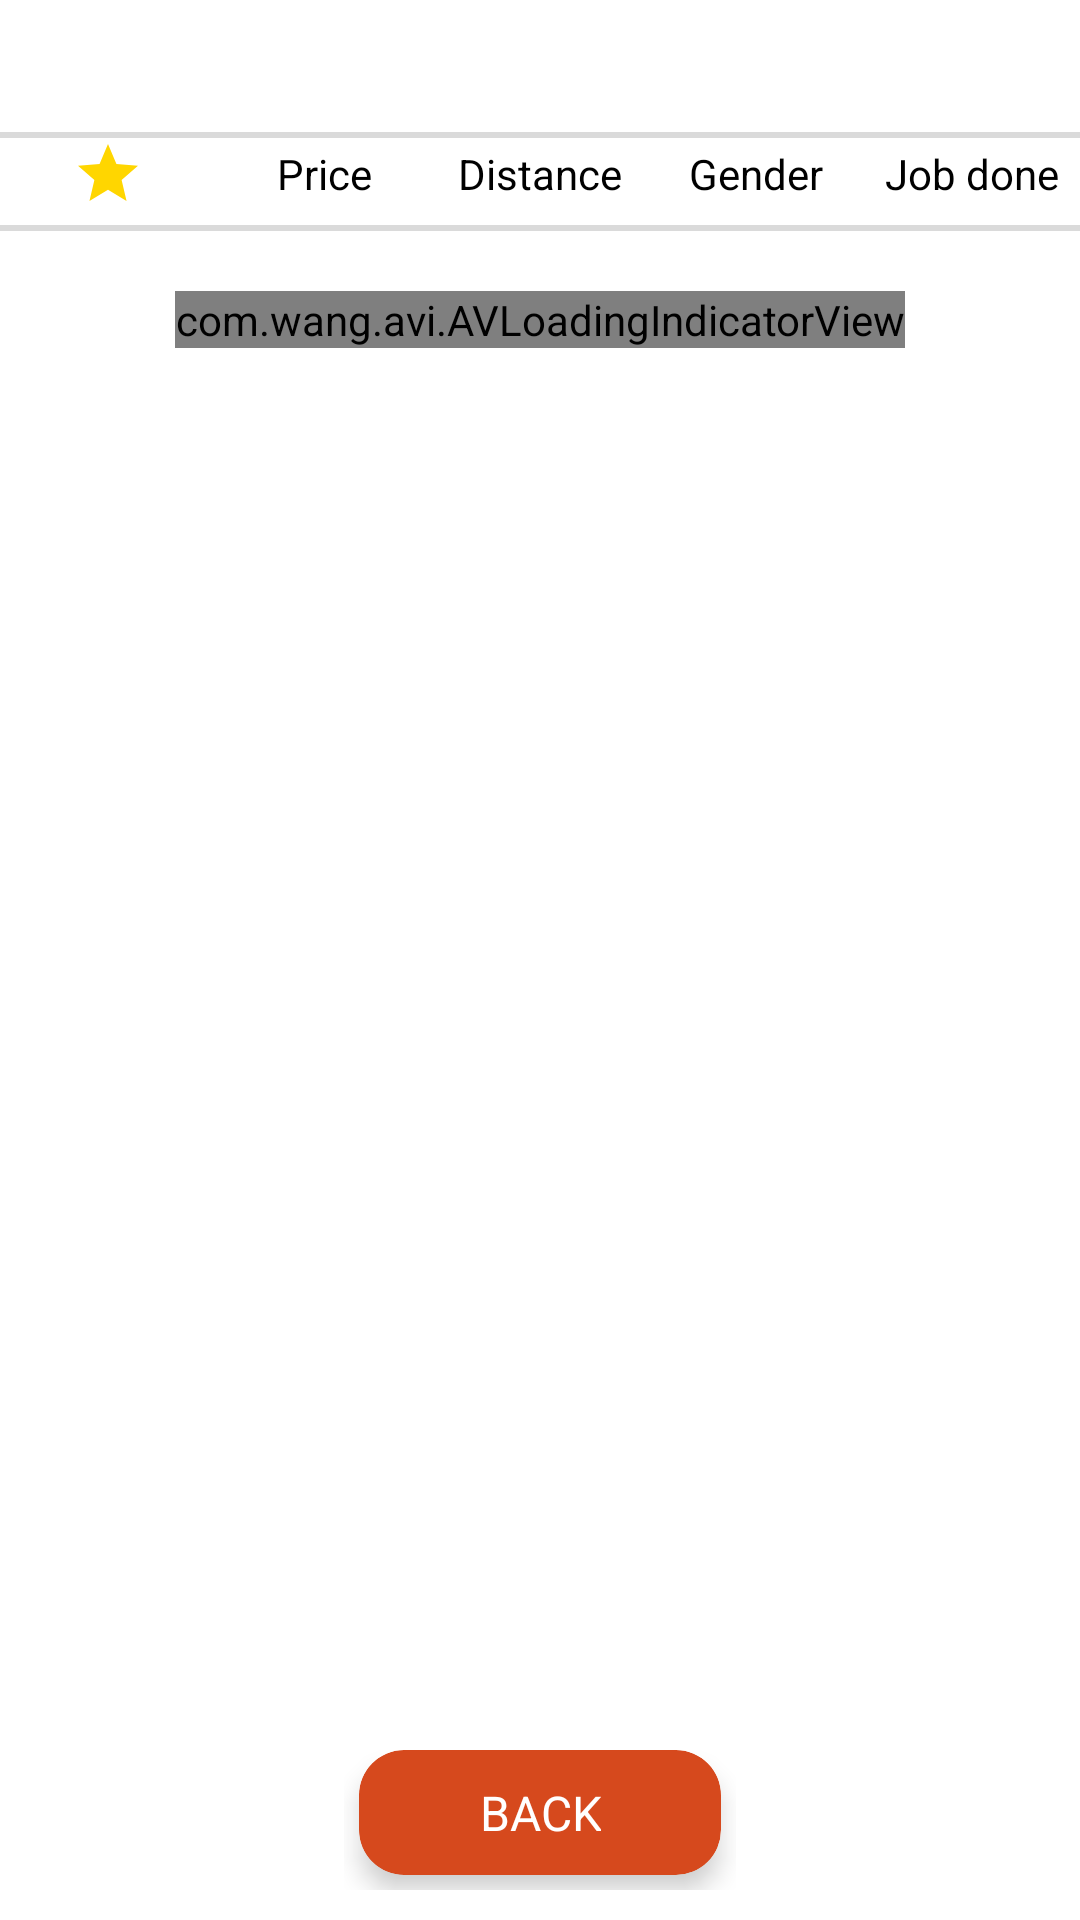

Named icons in this screenshot (1080 x 1920) and their centers, point (x, y):
rate: point (108, 172)
